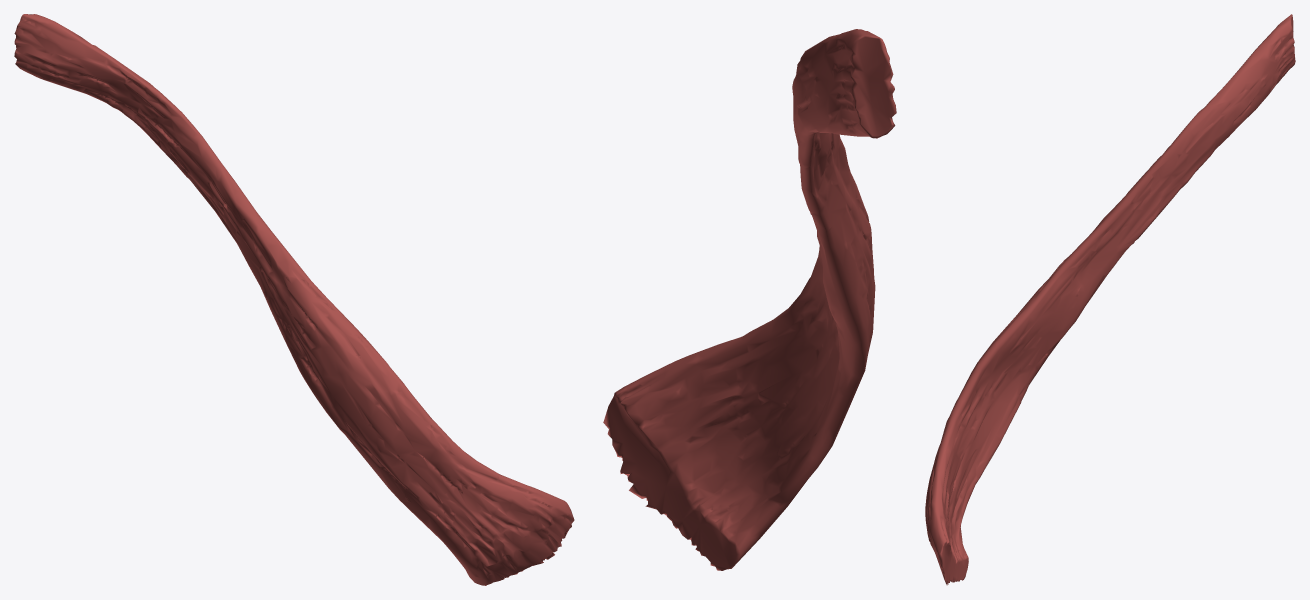
The model's file is FMA45874.glb.
3 renders of one model, left to right at view 1: azimuth 30°, elevation 25°; view 2: azimuth 150°, elevation 25°; view 3: azimuth 270°, elevation 25°, orthographic. The views are drawn at different scales.
Parts seen in each view (by area): view 1: FMA45874; view 2: FMA45874; view 3: FMA45874.
Boxes of the visible parts, x1=… form: FMA45874: x1=14, y1=14, x2=574, y2=585; FMA45874: x1=603, y1=29, x2=896, y2=570; FMA45874: x1=925, y1=14, x2=1295, y2=585.
Bounding box in the file's own units: 0.129 × 0.1712 × 0.1288.
